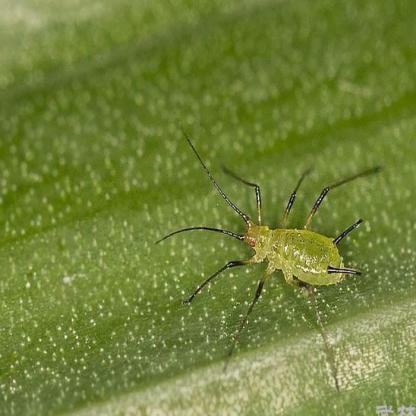aphid: (155, 119, 376, 359)
